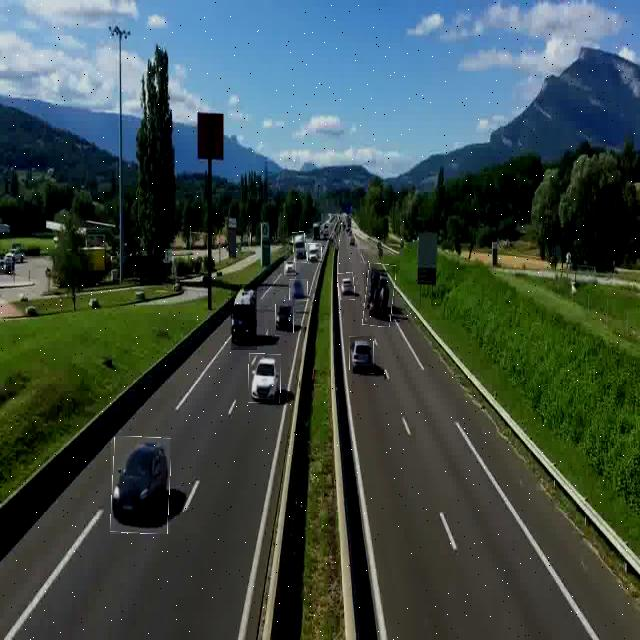Car: (111, 436, 170, 534), (249, 354, 281, 403), (350, 336, 374, 374), (275, 300, 294, 336), (338, 273, 354, 300), (290, 279, 308, 301), (284, 262, 296, 276)
Truck: (364, 264, 395, 326), (231, 284, 257, 350), (293, 232, 307, 263), (307, 243, 322, 264)
